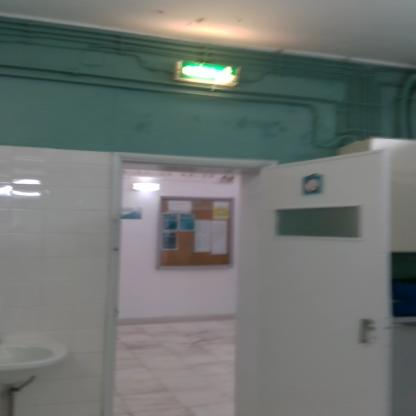open: (98, 147, 388, 416)
